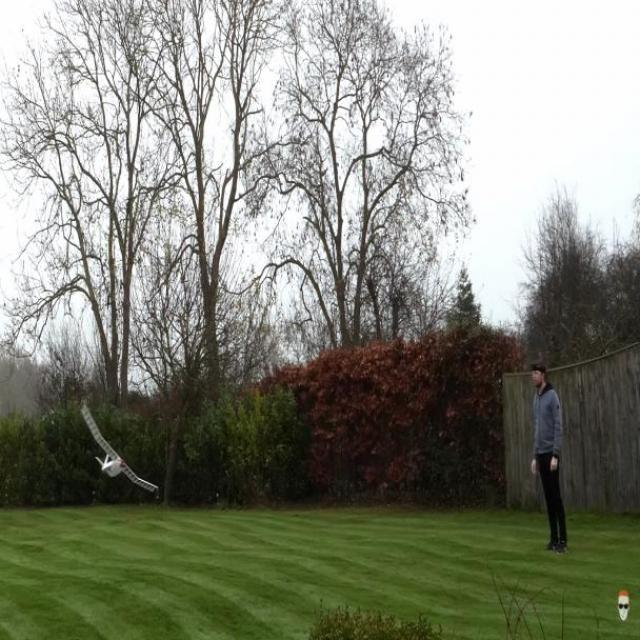iha: (41, 432, 70, 465)
